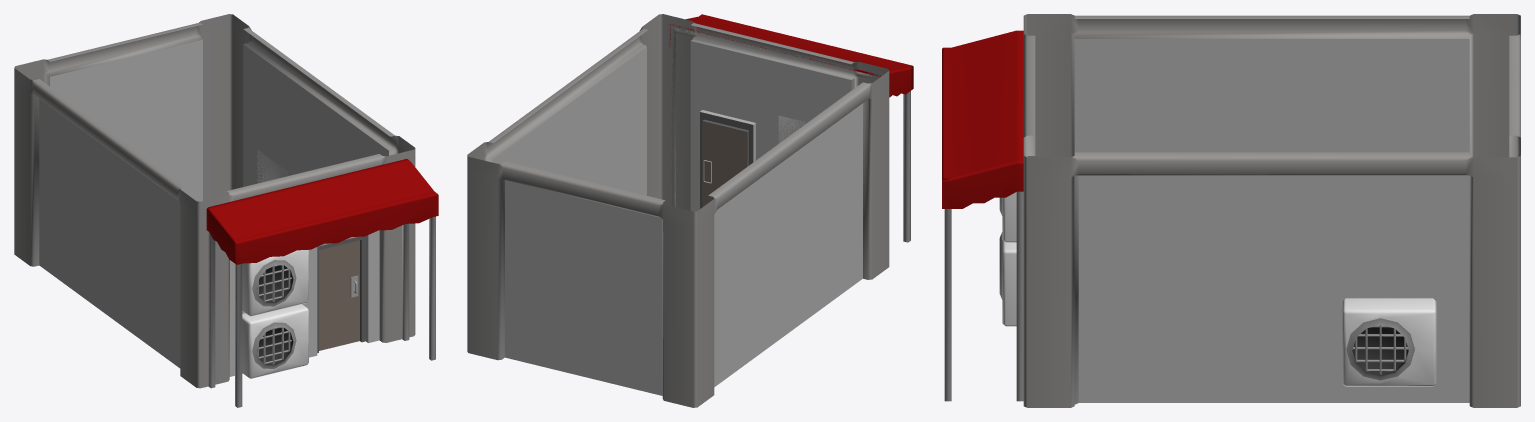
File: GroundFloor1.fbx
3 views of the same model, side by side, from view 1: azimuth 30°, elevation 25°; view 2: azimuth 150°, elevation 25°; view 3: azimuth 270°, elevation 25° (orthographic). The views are drawn at different scales.
Parts seen in each view (by area): view 1: GroundFloor1, Overhang, ACUnit1, ACUnit2, ACUnit3; view 2: GroundFloor1, Overhang, ACUnit2; view 3: GroundFloor1, Overhang, ACUnit3, ACUnit1, ACUnit2.
Part boxes in pixels (<box>): GroundFloor1: <box>14,14,415,388</box>; Overhang: <box>206,159,438,407</box>; ACUnit1: <box>242,304,308,378</box>; ACUnit2: <box>242,250,308,316</box>; ACUnit3: <box>257,150,289,183</box>; GroundFloor1: <box>467,14,889,407</box>; Overhang: <box>669,14,913,242</box>; ACUnit2: <box>778,115,805,143</box>; GroundFloor1: <box>1023,14,1520,407</box>; Overhang: <box>942,30,1023,401</box>; ACUnit3: <box>1342,298,1436,386</box>; ACUnit1: <box>999,232,1016,326</box>; ACUnit2: <box>999,192,1016,242</box>.
Size of the model in its own units: 460 by 350 by 733.
